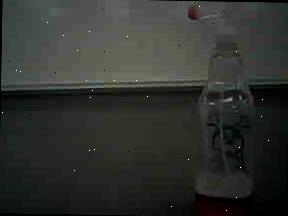hazard: (177, 3, 276, 216)
